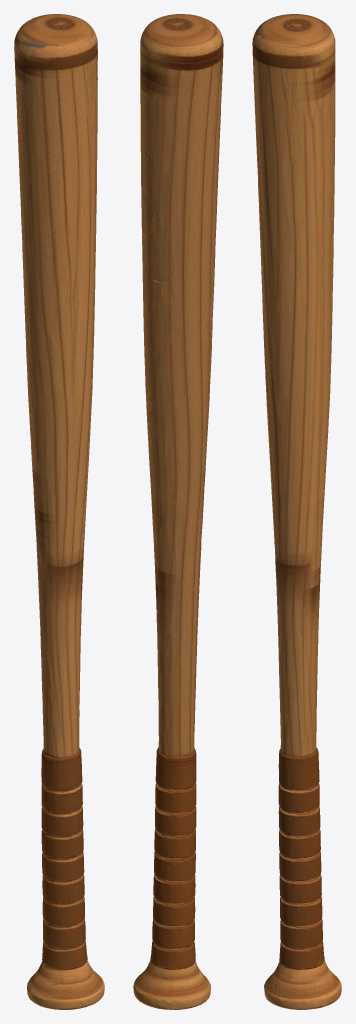
Rendered from bat.glb.
3 renders of one model, left to right at view 1: azimuth 30°, elevation 25°; view 2: azimuth 210°, elevation 25°; view 3: azimuth 330°, elevation 25°, orthographic.
Visible parts, largest first — view 1: bat; view 2: bat; view 3: bat.
Boxes of the visible parts, x1=… form: bat: x1=14, y1=14, x2=104, y2=1009; bat: x1=133, y1=14, x2=223, y2=1009; bat: x1=252, y1=14, x2=341, y2=1009.
Bounding box in the file's own units: 0.0817 × 0.9619 × 0.0745.
1 material, 1 textured.
